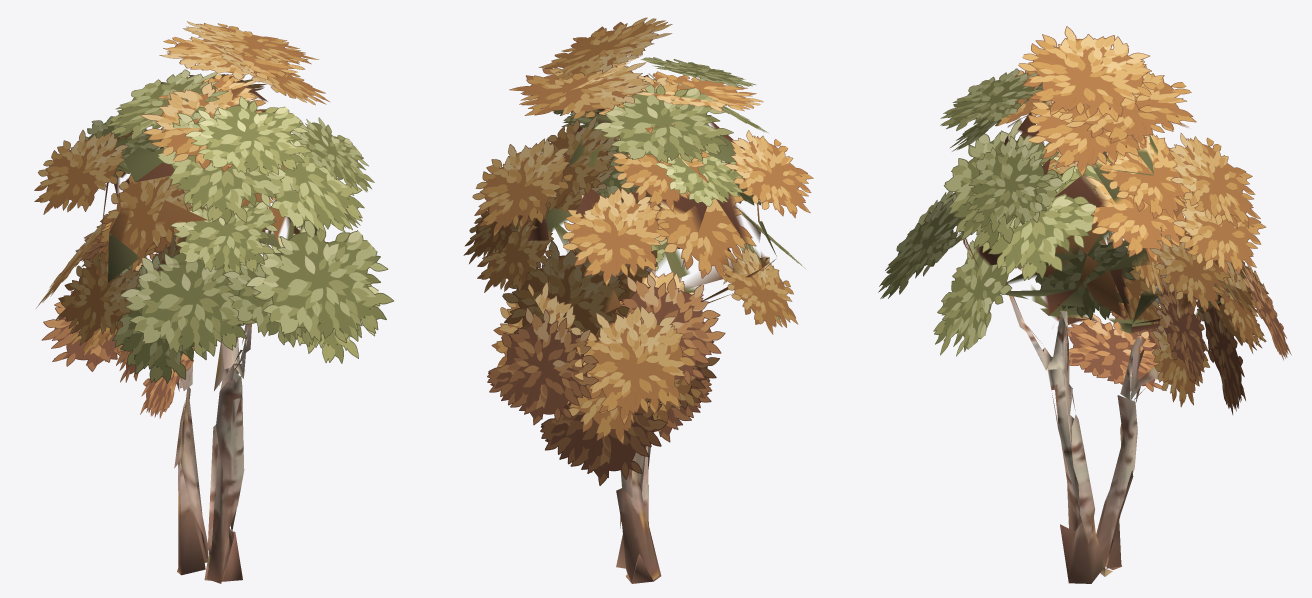
File: birch_b_lo.glb
3 renders of one model, left to right at view 1: azimuth 30°, elevation 25°; view 2: azimuth 150°, elevation 25°; view 3: azimuth 270°, elevation 25°, orthographic. The views are drawn at different scales.
Visible parts, largest first — view 1: birch_b_lo; view 2: birch_b_lo; view 3: birch_b_lo.
Boxes of the visible parts, x1=… form: birch_b_lo: x1=34, y1=21, x2=393, y2=583; birch_b_lo: x1=463, y1=17, x2=813, y2=583; birch_b_lo: x1=878, y1=26, x2=1291, y2=583.
Size of the model in its own units: 5.5 by 9.25 by 6.78.
1 material, 1 textured.
